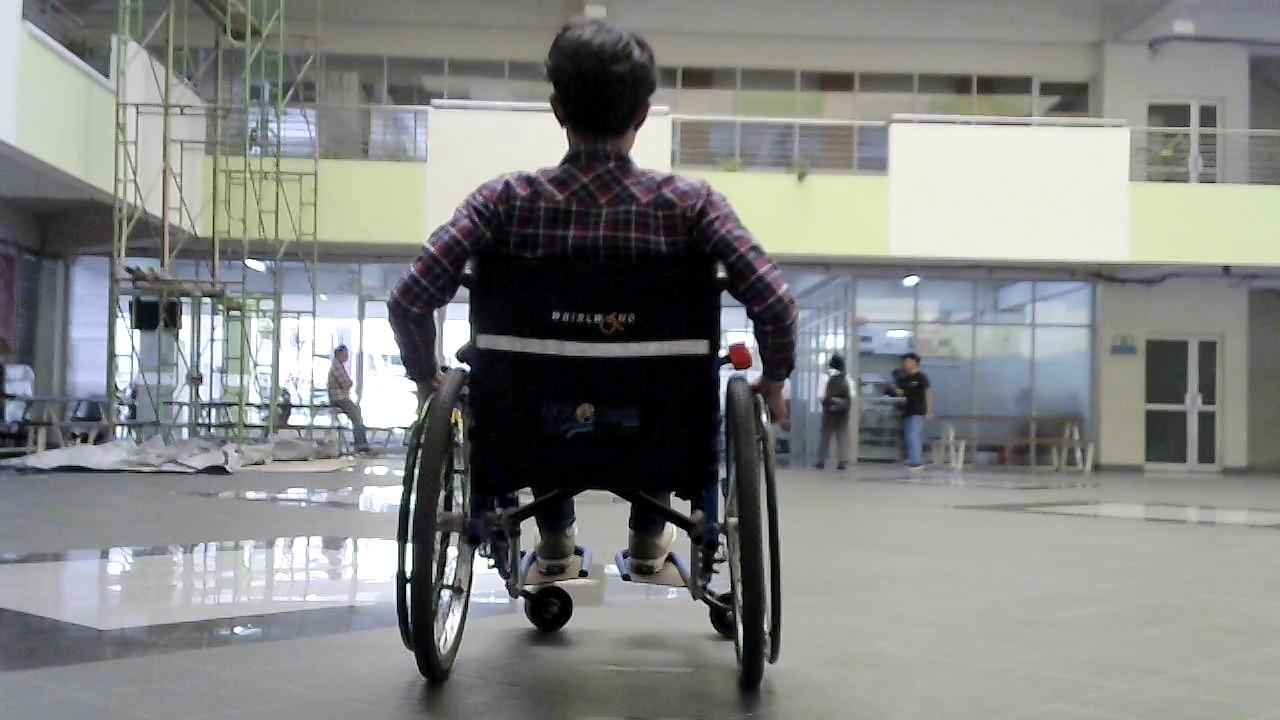person: (385, 18, 801, 595), (326, 338, 368, 454), (816, 354, 856, 472), (893, 352, 933, 468)
wheelchair: (363, 237, 807, 706)
